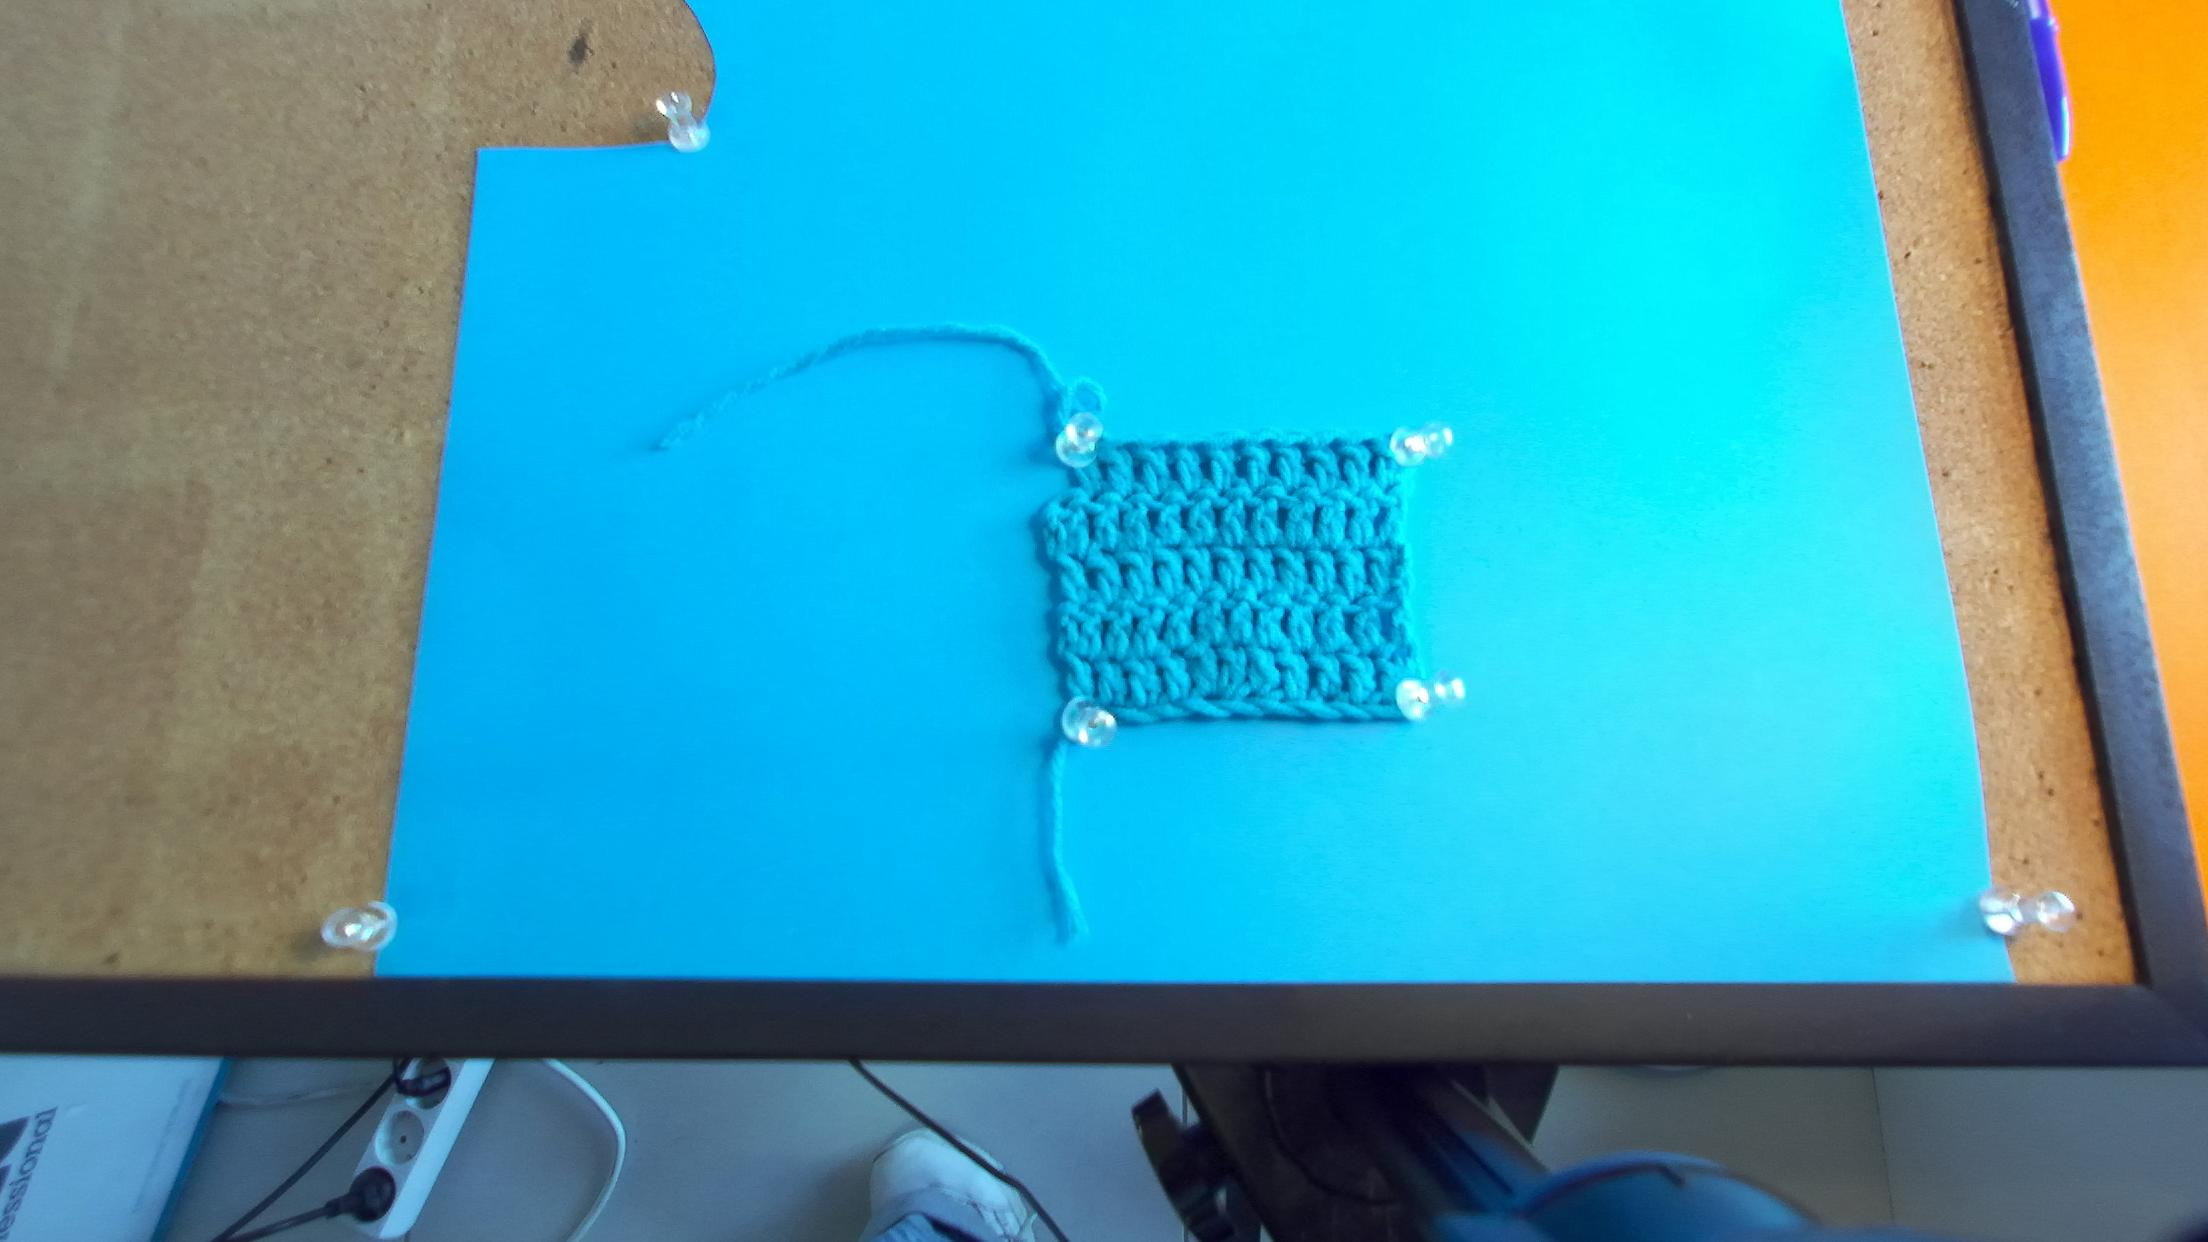hole: (1151, 441, 1178, 453), (1113, 441, 1139, 453), (1186, 441, 1209, 455), (1289, 440, 1307, 456), (1228, 438, 1245, 453), (1257, 437, 1275, 450), (1327, 438, 1342, 452), (1360, 438, 1375, 452)
swatch: (1033, 426, 1427, 746)
